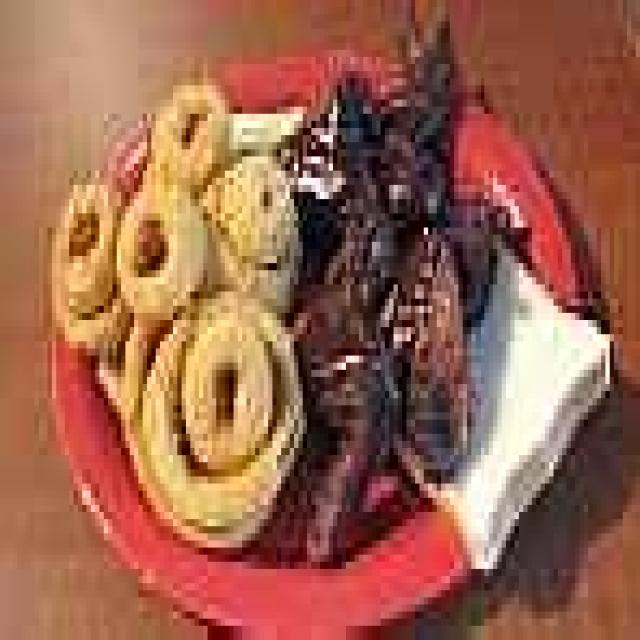Chicken Wings: (286, 7, 540, 541)
Onion Rings: (52, 42, 320, 548)
